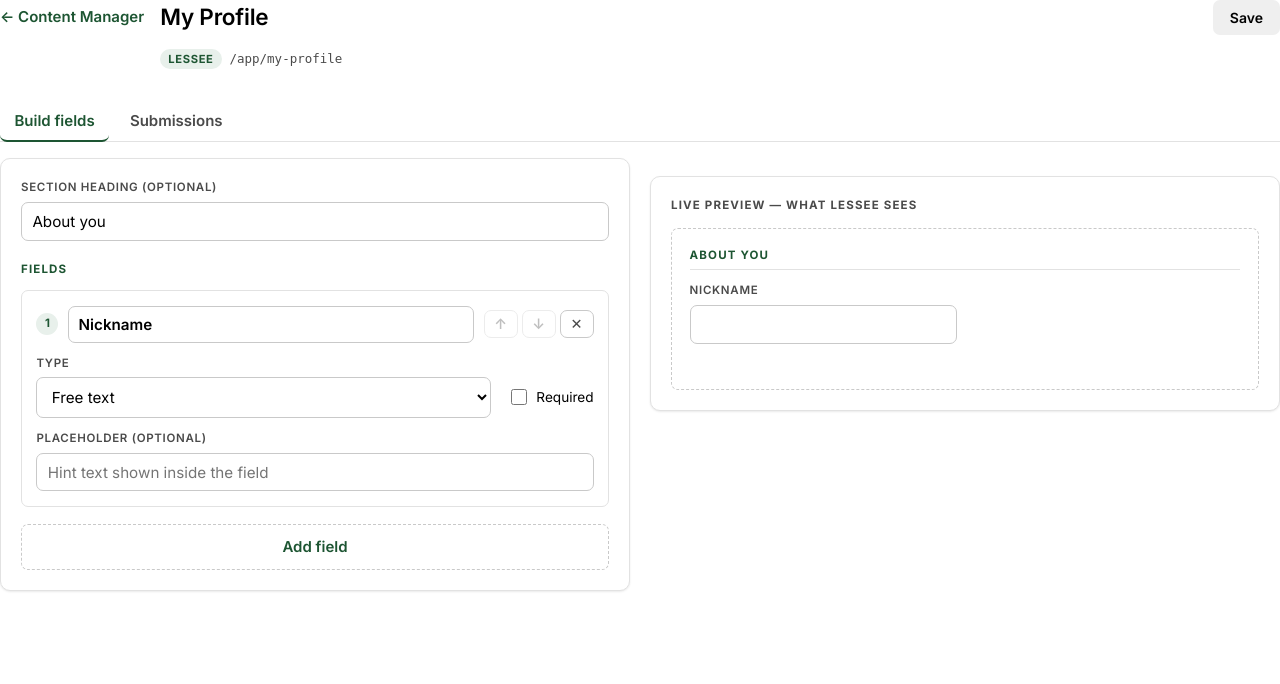
CmsFormBuilderView (page-form slot editor) › blocks saving a choice field with no options
This screenshot has width=1280, height=684.
Click the button with class "add" at (315, 547), box [21,524,609,570]
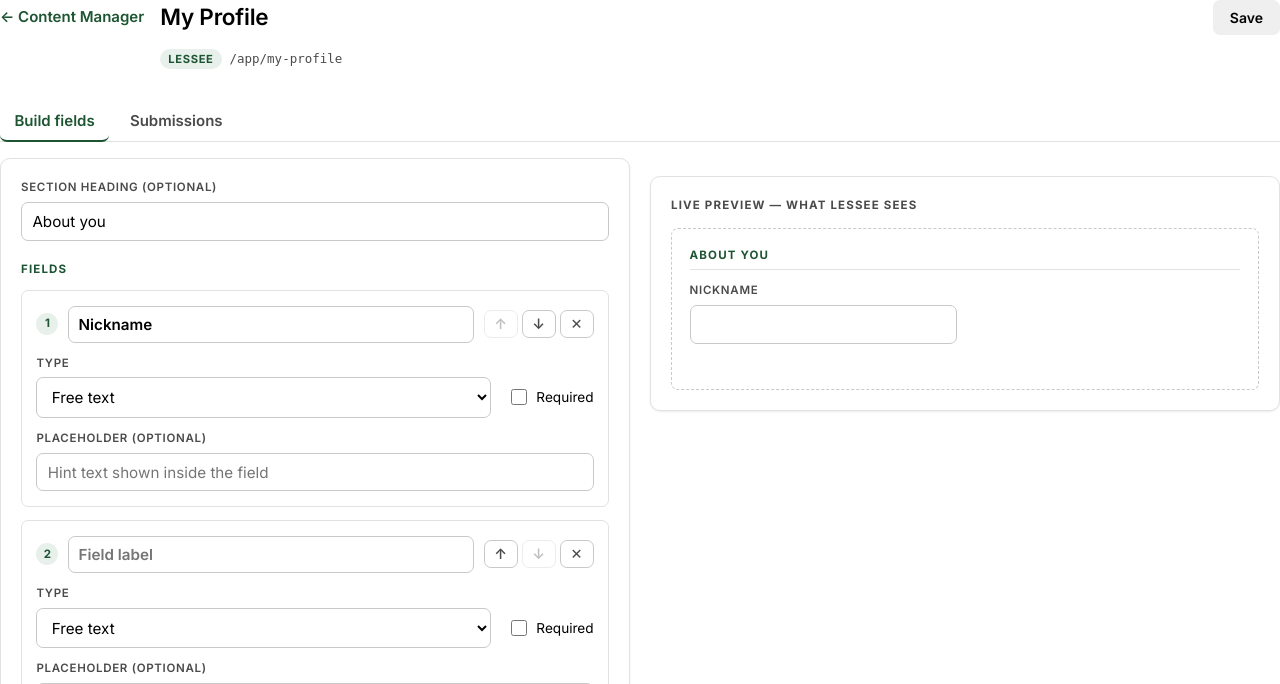
Type "Preference" into the field with class "fcard__label" showing "Field label" at (271, 554), box [68,536,474,573]
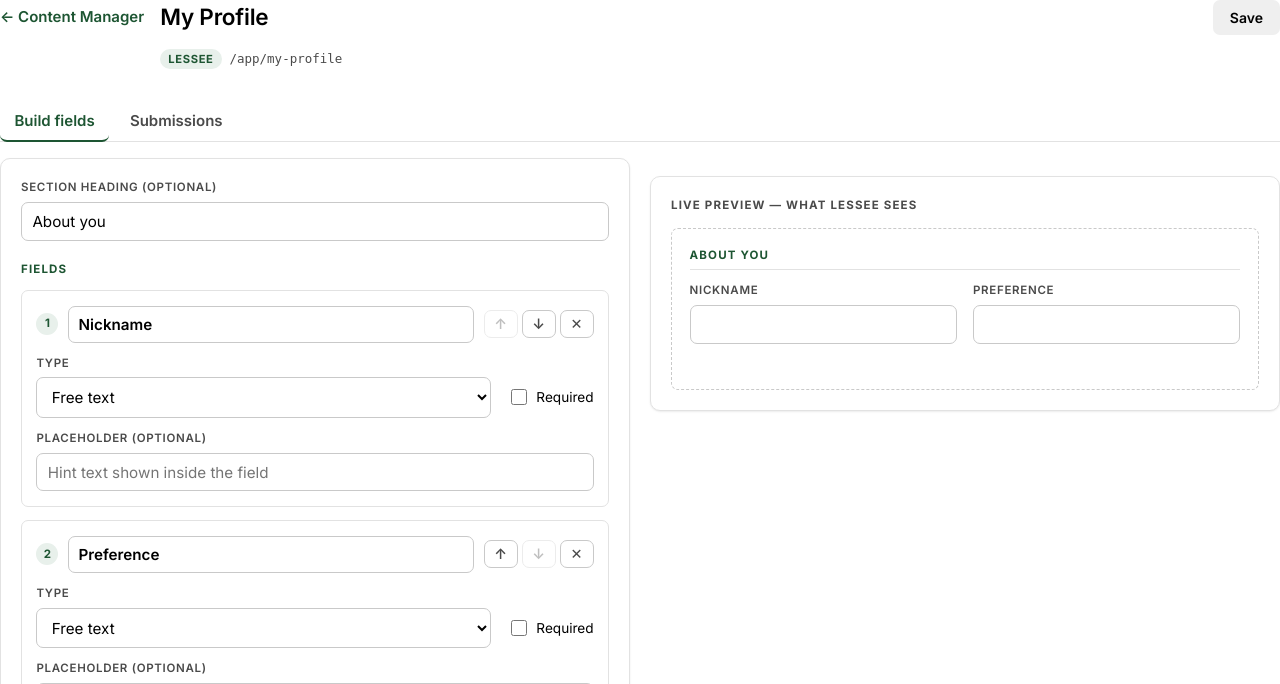
Select "Dropdown" in the 2nd dropdown at (264, 628), box [36,608,491,648]
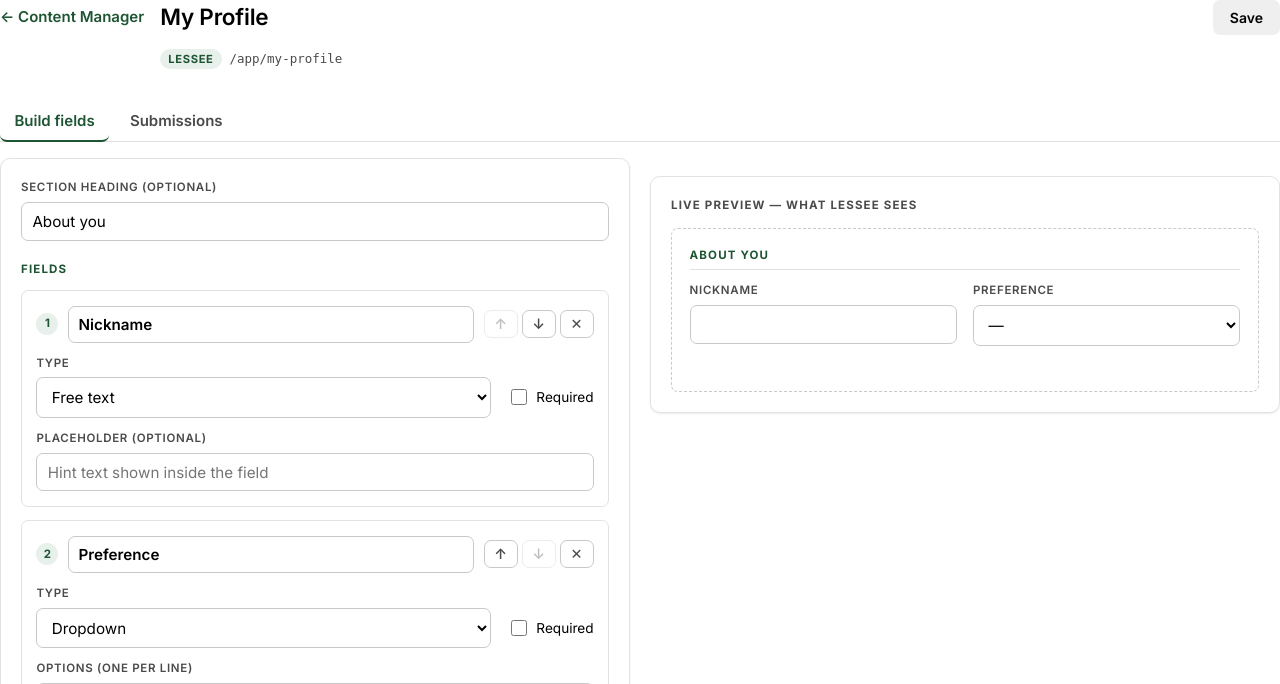
Click the button "Save" at (1246, 18), box [1213,0,1279,35]
(page scrolled)
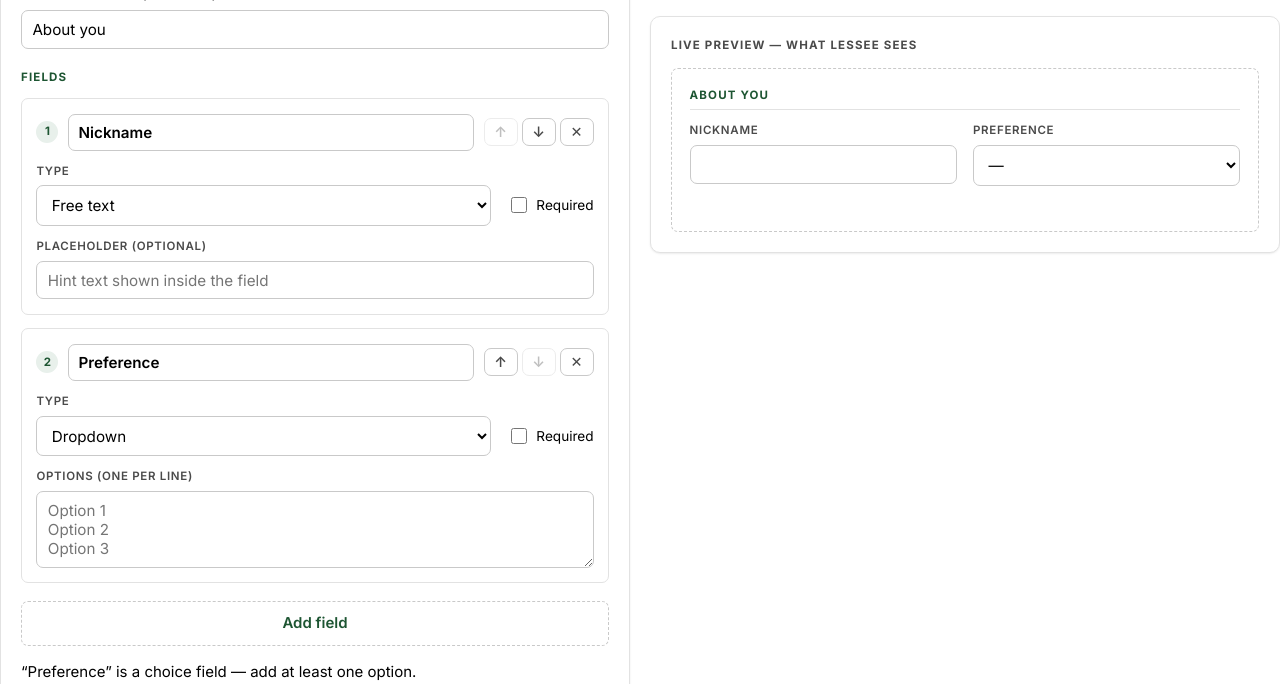
Check: the text with class "error" shows "add at least one option", box [21,662,416,681]
